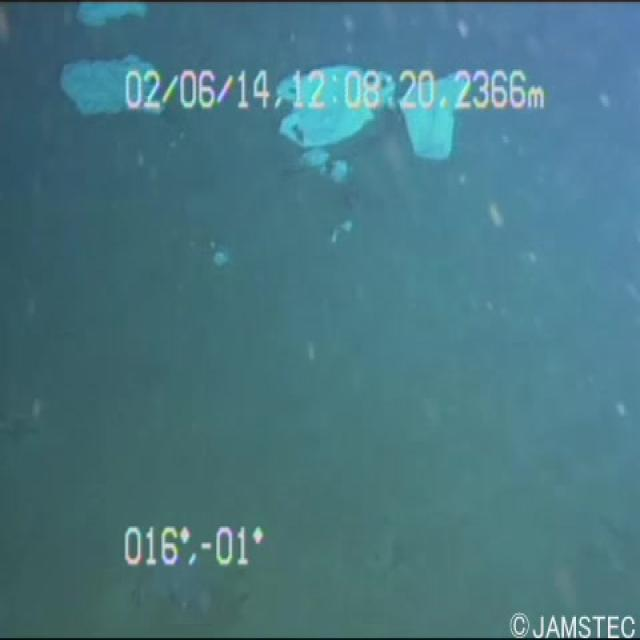plastic: (253, 48, 395, 164), (35, 43, 180, 128), (395, 43, 473, 167)
